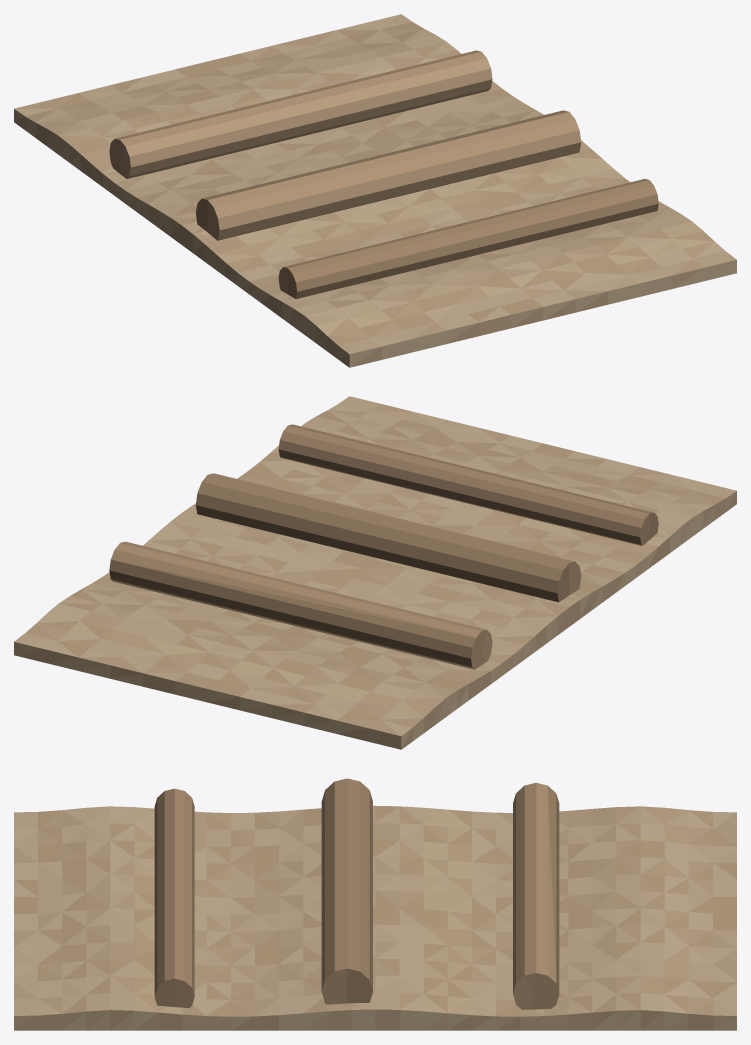
The model's file is 12_log_crossing.glb.
3 renders of one model, top to bottom at view 1: azimuth 30°, elevation 25°; view 2: azimuth 150°, elevation 25°; view 3: azimuth 270°, elevation 25°, orthographic. The views are drawn at different scales.
Parts seen in each view (by area): view 1: ObstacleMesh; view 2: ObstacleMesh; view 3: ObstacleMesh.
Boxes of the visible parts, box(x1,y1,x2,y2) form: ObstacleMesh: box(14, 14, 736, 367); ObstacleMesh: box(14, 396, 736, 749); ObstacleMesh: box(14, 778, 736, 1030).
Size of the model in its own units: 6 by 0.76 by 9.
